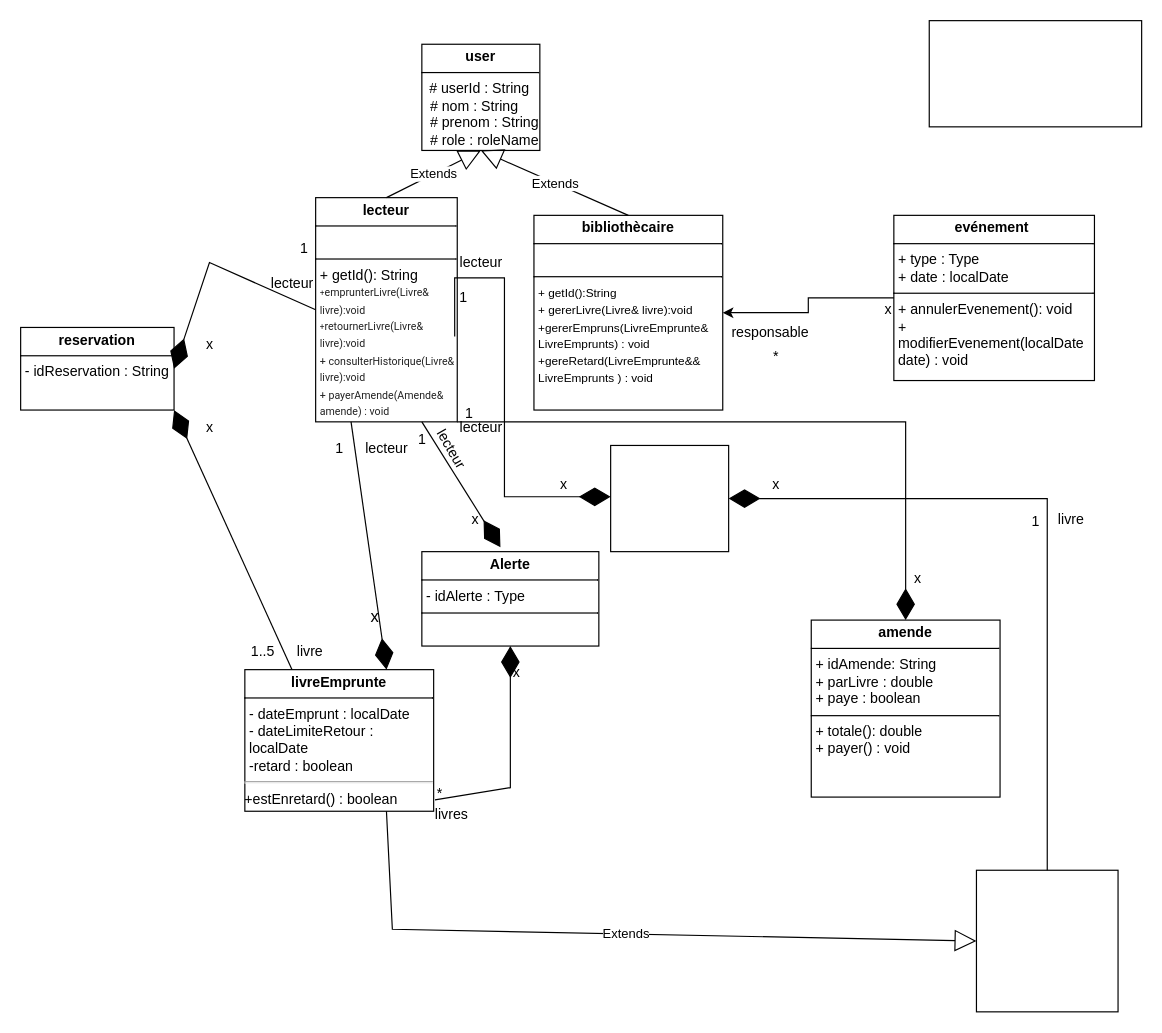
Some shapes in this 1162 by 1033 pixel diagram are drawn without their labels. Here are the shapes that lost their labels. From the top down, the box of each, then its label:
(928, 19, 1142, 127): <<enumeration>> roleName admin lecteur
(609, 444, 729, 552): critique + idCrit: String + notation : int + commentaire : String
(975, 869, 1118, 1012): Livre - ISBN : String - nom : String - auteur : String - stock : int
